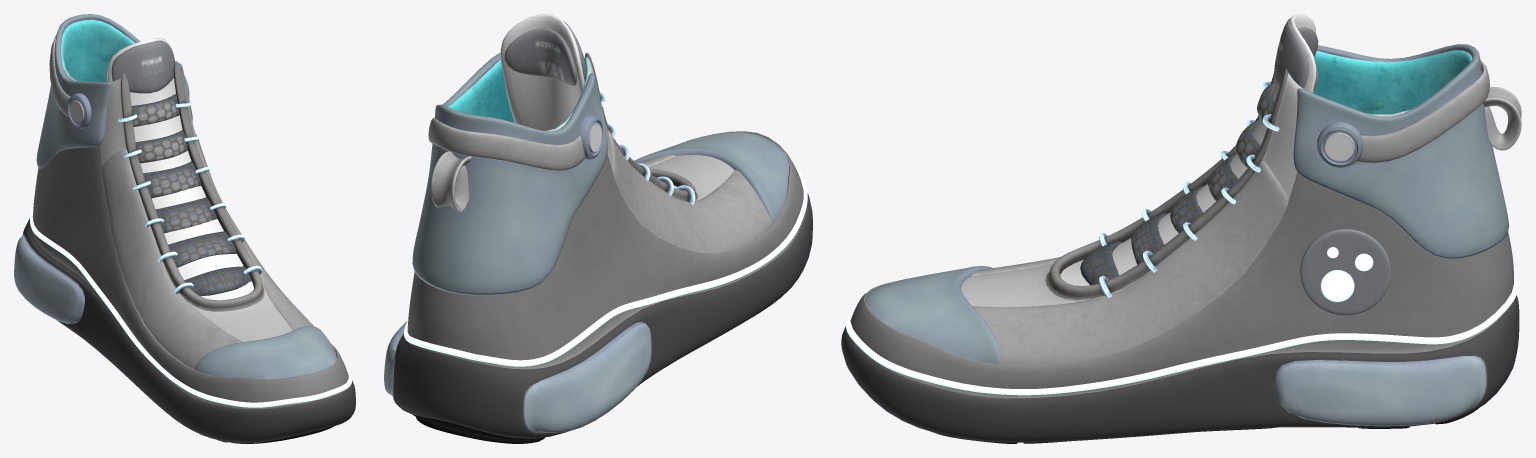
File: sci-fi-sneaker.gltf
3 renders of one model, left to right at view 1: azimuth 30°, elevation 25°; view 2: azimuth 150°, elevation 25°; view 3: azimuth 270°, elevation 25°, orthographic. The views are drawn at different scales.
Visible parts, largest first — view 1: Sockbottom.001, Sock, Sock.001, Laces.001, Tongue.001, Neck.001, SockBrand.001, curve.001, Laceadditions.001, NeckCylinders.001, Neckaddition.001; view 2: Sockbottom.001, Neck.001, Sock, Sock.001, Tongue.001, Neckaddition.001, curve.001, SockBrand.001, tail.001, NeckCylinders.001, traces.001, Laceadditions.001; view 3: Sockbottom.001, Sock, Neck.001, Sock.001, FokurLogo.001, curve.001, Laces.001, Neckaddition.001, Tongue.001, SockBrand.001, NeckCylinders.001, tail.001 (+1 smaller).
Part boxes in pixels (x1,y1,x2,y2): Sockbottom.001: (14,144,355,443); Sock: (101,132,336,379); Sock.001: (61,19,292,341); Laces.001: (131,94,251,296); Tongue.001: (107,38,253,300); Neck.001: (36,14,192,168); SockBrand.001: (111,40,174,93); curve.001: (30,204,351,407); Laceadditions.001: (118,102,262,294); NeckCylinders.001: (67,75,189,128); Neckaddition.001: (49,35,70,116); Sockbottom.001: (384,131,812,438); Neck.001: (412,52,608,295); Sock: (608,130,788,253); Sock.001: (412,53,734,439); Tongue.001: (500,14,676,188); Neckaddition.001: (428,117,585,170); curve.001: (404,164,807,366); SockBrand.001: (504,21,586,85); tail.001: (431,151,472,212); NeckCylinders.001: (579,115,603,159); traces.001: (416,417,544,443); Laceadditions.001: (599,92,695,204); Sockbottom.001: (841,172,1519,442); Sock: (866,161,1288,365); Neck.001: (1293,44,1508,258); Sock.001: (961,50,1472,306); FokurLogo.001: (1300,229,1391,315); curve.001: (845,278,1517,395); Laces.001: (1080,82,1274,284); Neckaddition.001: (1357,60,1489,162); Tongue.001: (1060,14,1315,285); SockBrand.001: (1274,18,1318,90); NeckCylinders.001: (1317,122,1363,167); tail.001: (1483,87,1521,150).
Bounding box in the file's own units: 118 × 206 × 326.
14 materials, 14 textured.
